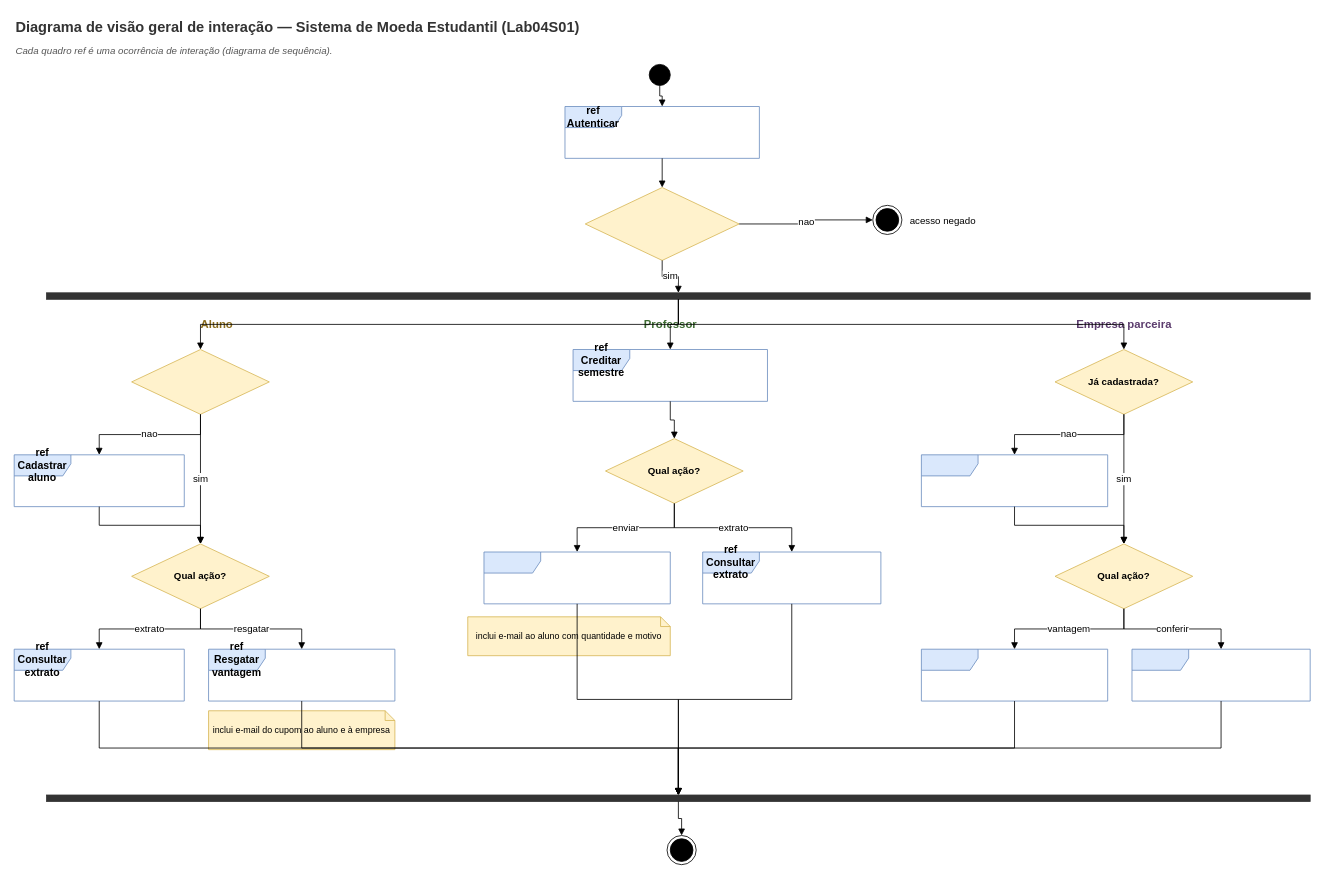
The diagram is 1341 pixels wide and 879 high, and some of its shapes have lost their labels. Each missing label, with the centre of its shape:
"Credenciais válidas?" belongs at (x=661, y=223).
"Já cadastrado?" belongs at (x=200, y=381).
"ref Cadastrar empresa" belongs at (x=1014, y=480).
"ref Cadastrar vantagem" belongs at (x=1014, y=674).
"ref Conferir cupom" belongs at (x=1220, y=674).
"ref Enviar moedas" belongs at (x=576, y=577).
